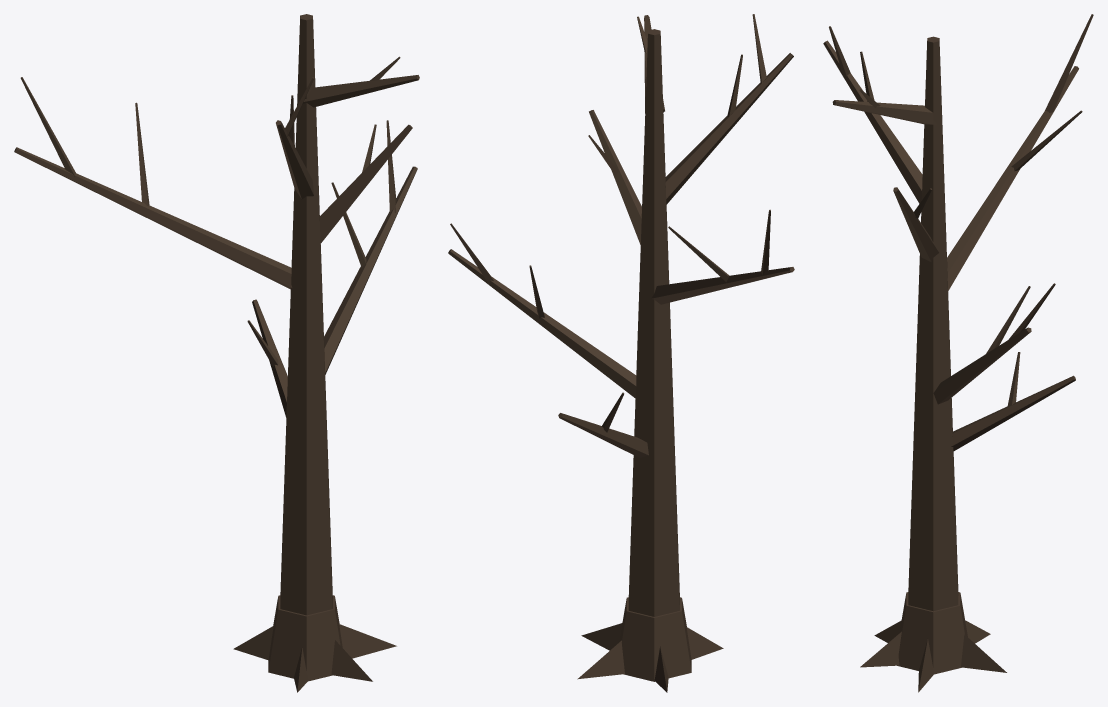
Rendered from tree_dead.glb.
The picture shows the model from 3 angles, left to right: view 1: azimuth 30°, elevation 25°; view 2: azimuth 150°, elevation 25°; view 3: azimuth 270°, elevation 25°; orthographic projection. The views are drawn at different scales.
Visible parts, largest first — view 1: tree_dead; view 2: tree_dead; view 3: tree_dead.
Boxes of the visible parts, x1,y1,x2,y2 form: tree_dead: (14,14,419,692); tree_dead: (448,14,794,692); tree_dead: (823,14,1093,692).
Size of what is drawn, in the model's own units: 2.94 by 4.8 by 1.91.
Materials: 1 (1 with a texture image).
